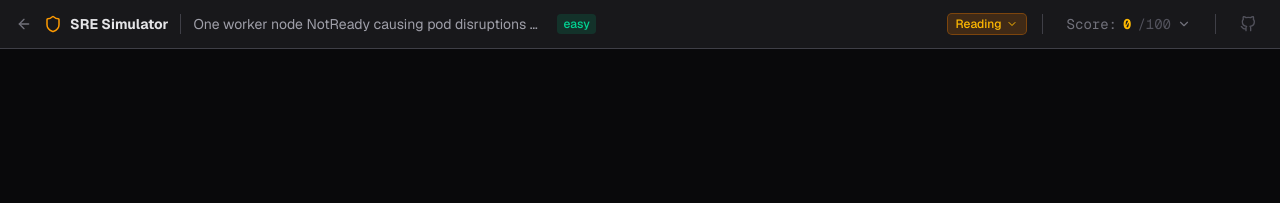
Test: Header layout › renders a compact current-phase tracker with a dropdown list
Click the button with test id "phase-tracker-button" at (987, 24), box 948,14 -> 1026,34
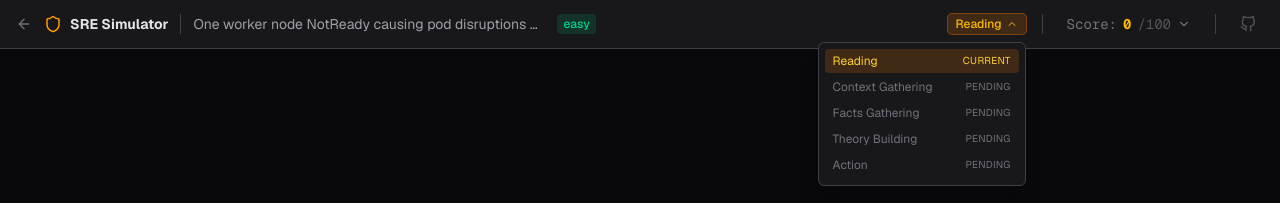
Expected: the list with test id "phase-tracker-menu" is shown, 818,42 -> 1026,186
Expected: the button with test id "phase-tracker-button" is expanded, 948,14 -> 1026,34
Expected: the text "Context Gathering" is shown, 833,79 -> 933,95
Press Escape
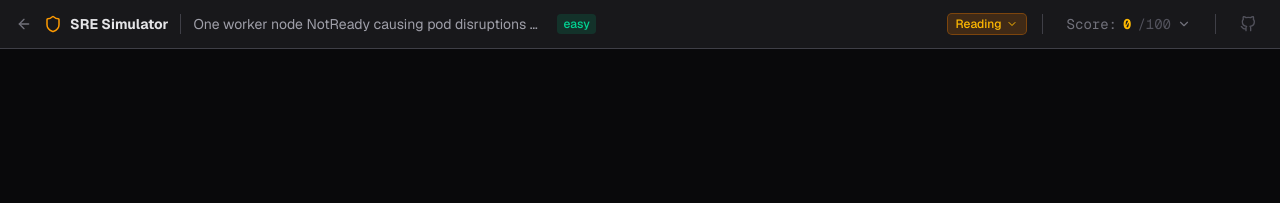
Expected: the list with test id "phase-tracker-menu" is gone
Expected: the button with test id "phase-tracker-button" is collapsed, 948,14 -> 1026,34
